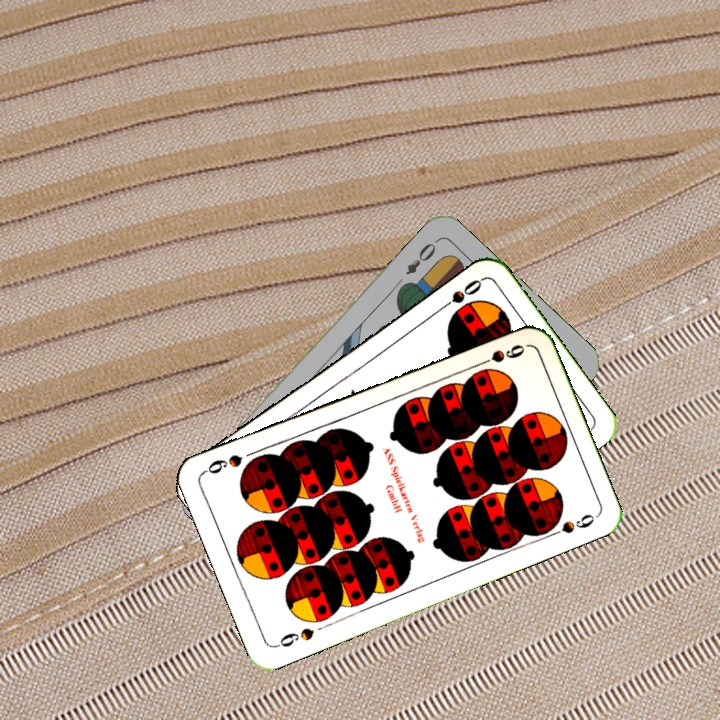EO: (401, 235, 441, 278)
S9: (471, 340, 528, 370), (271, 623, 317, 651)
SO: (433, 275, 485, 315)
